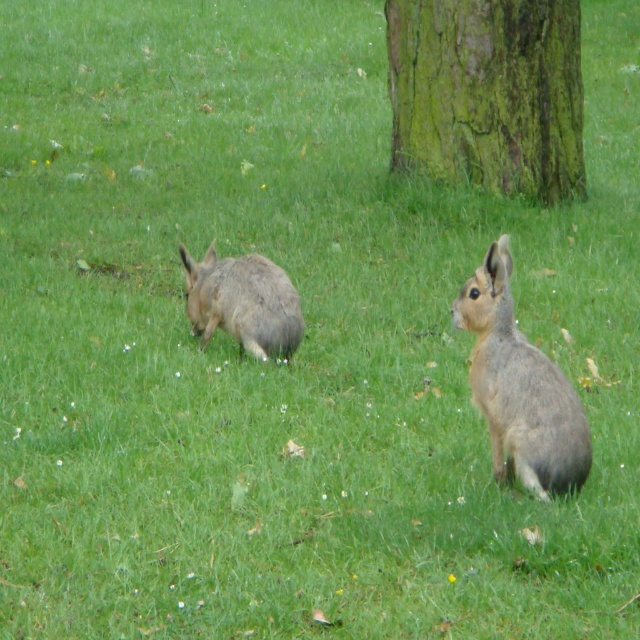Rabbit: (449, 232, 594, 502), (178, 238, 305, 364)
